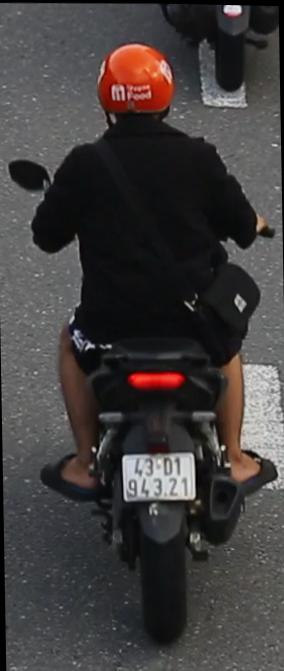LP: (120, 443, 199, 504)
helmet: (94, 35, 179, 136)
